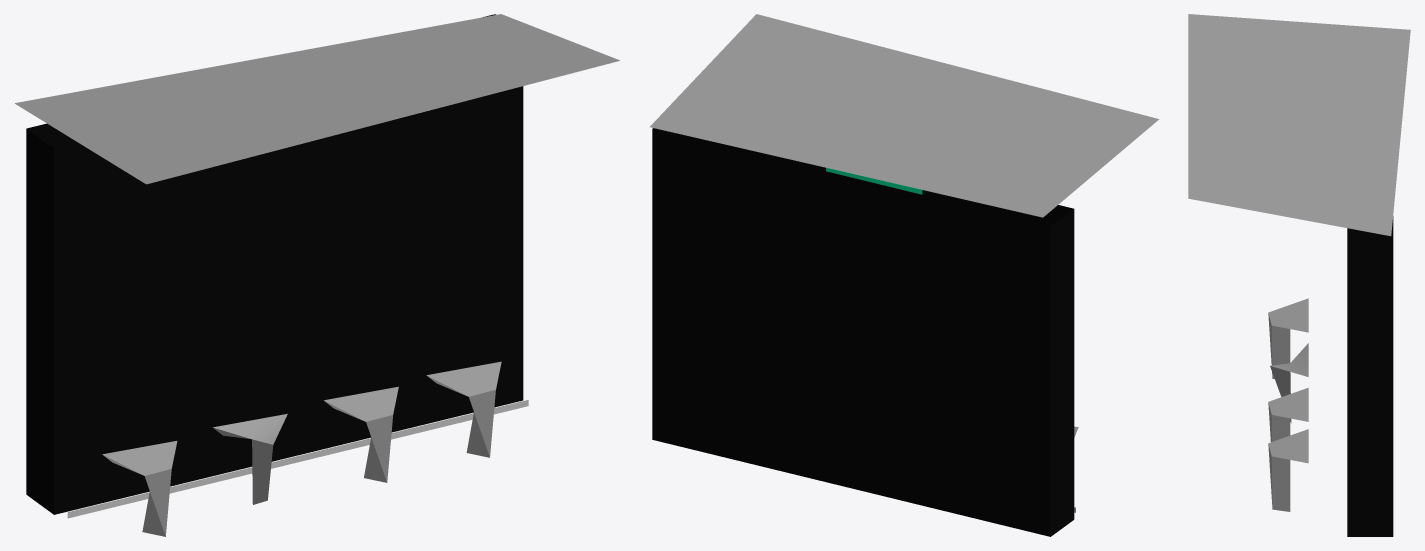
Rendered from PontoDeOnibusGrandeLOD2.fbx.
The picture shows the model from 3 angles, left to right: view 1: azimuth 30°, elevation 25°; view 2: azimuth 150°, elevation 25°; view 3: azimuth 270°, elevation 25°; orthographic projection. The views are drawn at different scales.
Parts seen in each view (by area): view 1: PontoDeOnibusLargoLOD2; view 2: PontoDeOnibusLargoLOD2; view 3: PontoDeOnibusLargoLOD2.
Part boxes in pixels (x1,y1,x2,y2): PontoDeOnibusLargoLOD2: (15, 14, 619, 536); PontoDeOnibusLargoLOD2: (650, 14, 1159, 536); PontoDeOnibusLargoLOD2: (1188, 14, 1410, 536).
Size of the model in its own units: 454 by 377 by 222.
